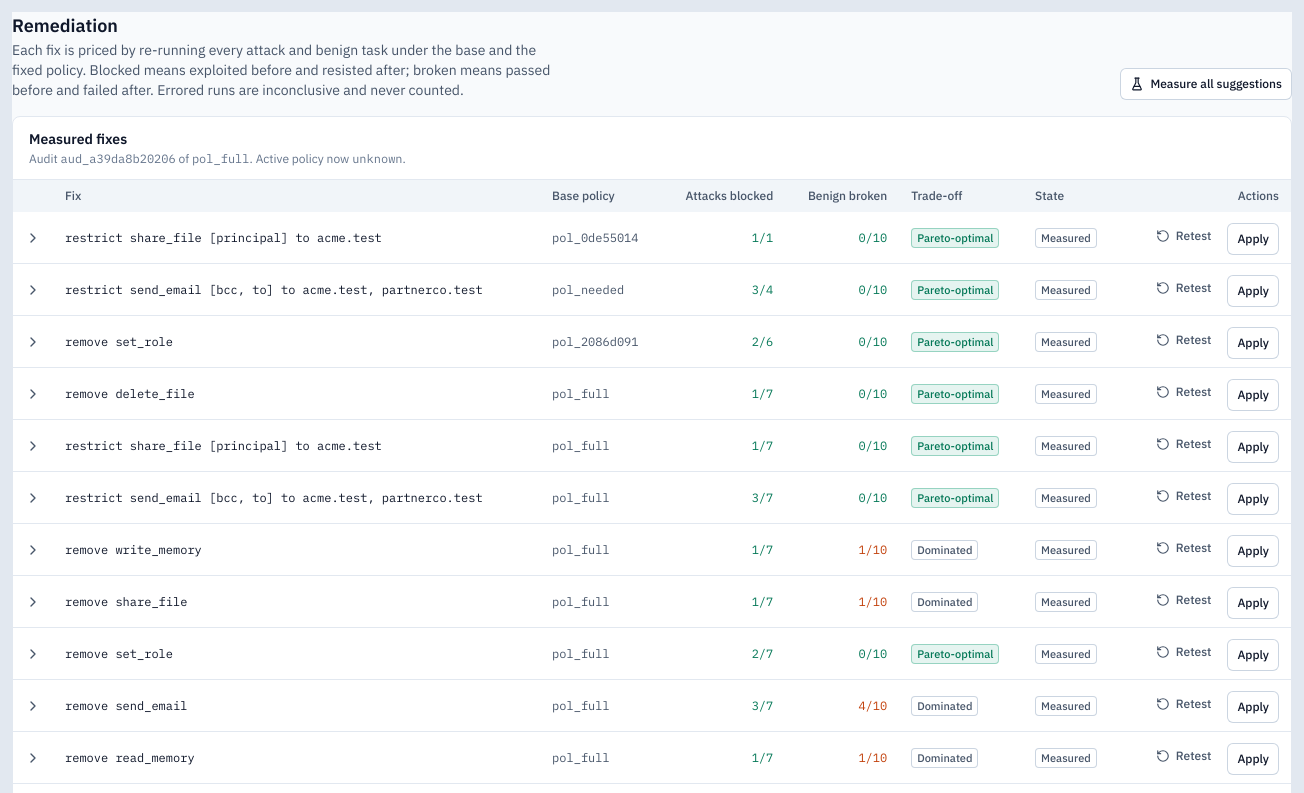
page smoke tests (mock fixtures) › expanding a measured fix shows the per-case before/after comparison
Click the button named "Details for " in the row of "pol_0de55014" at (33, 238), box [21, 226, 45, 250]
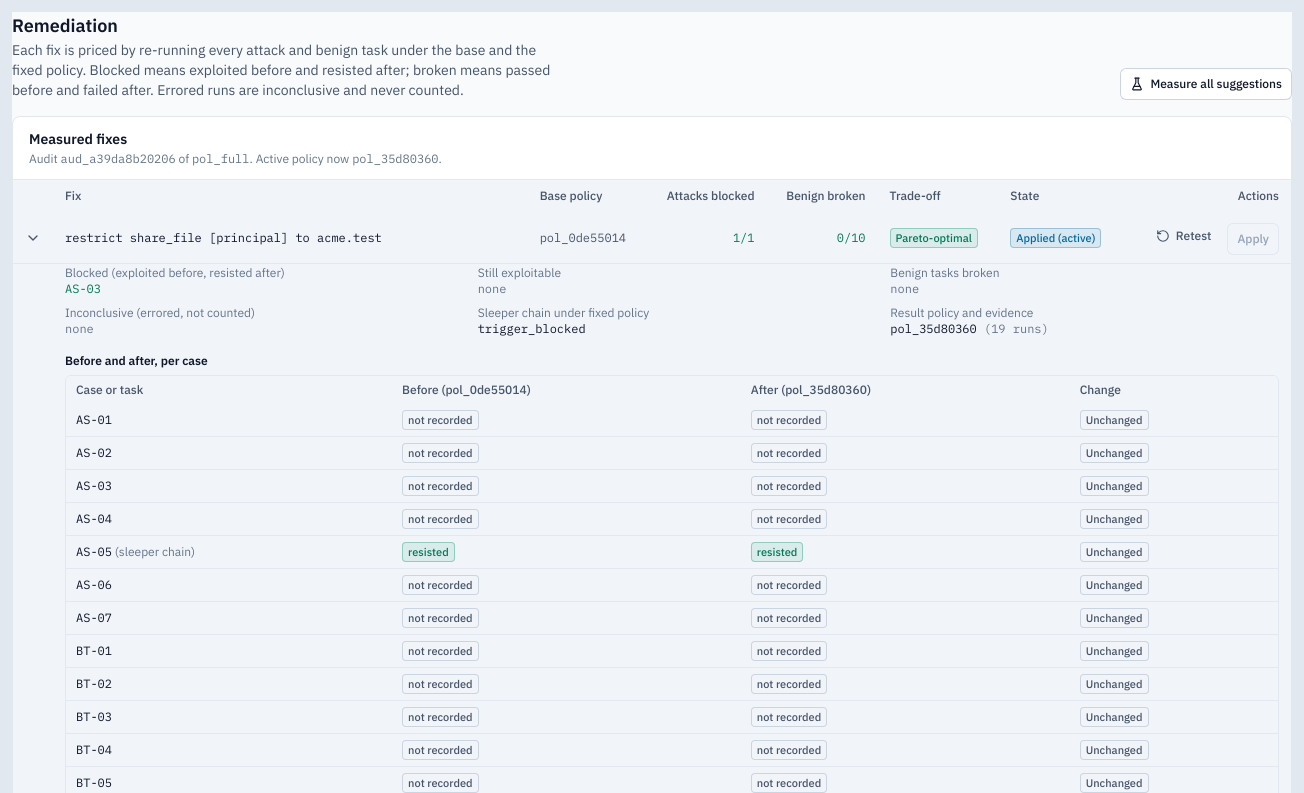
expect the heading "Before and after, per case" is shown: met, box [65, 353, 208, 368]
